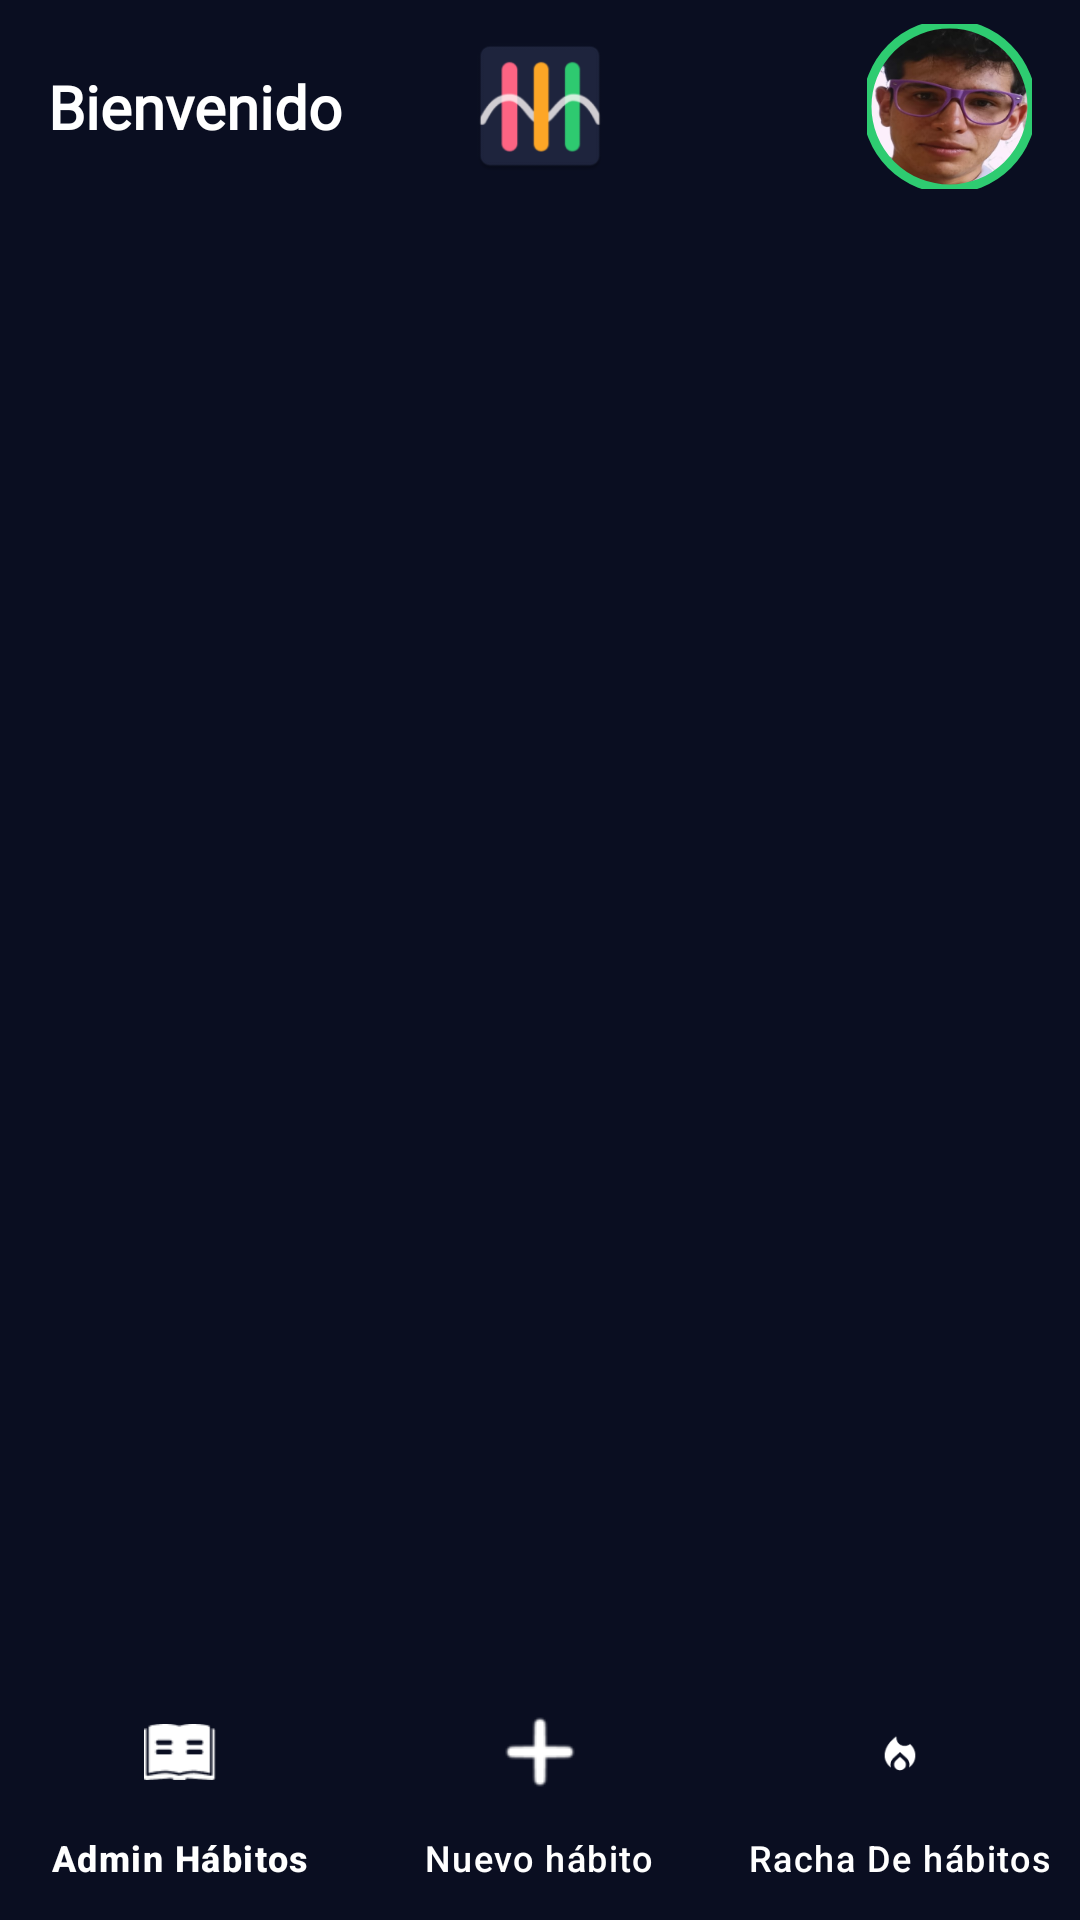

Point at icon controls on the screen. Image size 1080w x 1920h, points as point (x, y).
usuariopic: point (949, 106)
